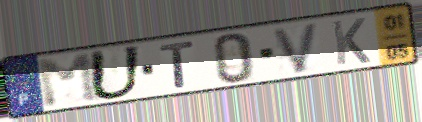0: (211, 31, 254, 85)
K: (329, 16, 373, 67)
M: (33, 50, 104, 111)
T: (157, 39, 198, 90)
U: (87, 43, 144, 102)
V: (269, 20, 322, 75)
